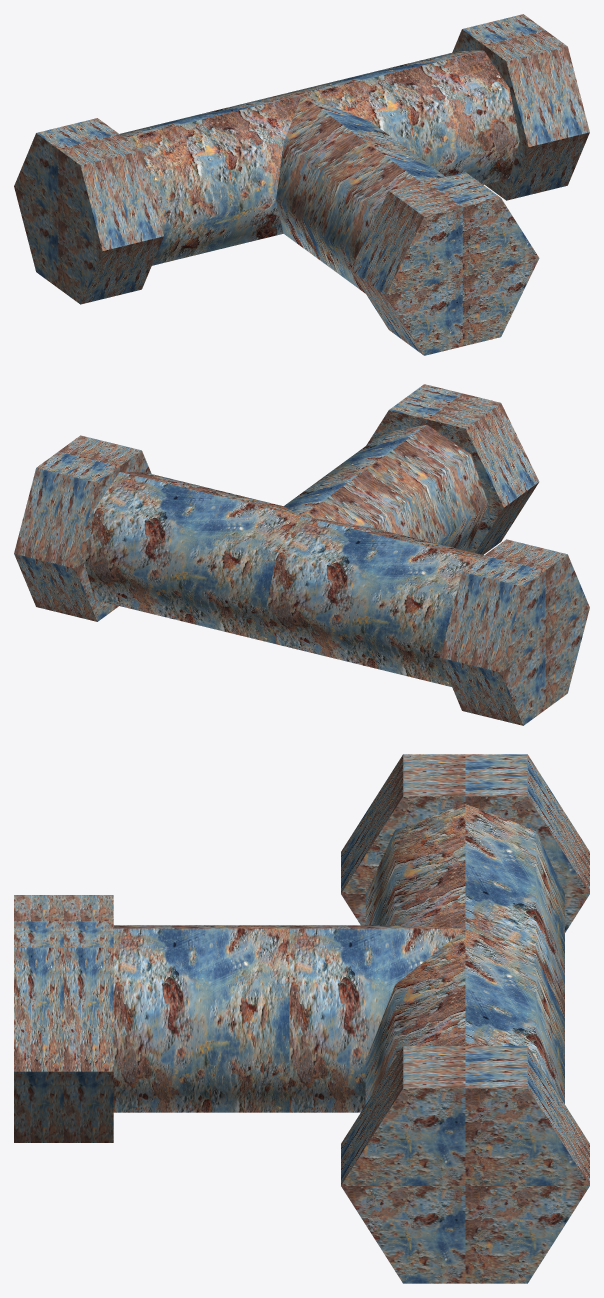
The model's file is pipe2TJoint.FBX.
3 views of the same model, one above another, from view 1: azimuth 30°, elevation 25°; view 2: azimuth 150°, elevation 25°; view 3: azimuth 270°, elevation 25° (orthographic). The views are drawn at different scales.
Parts seen in each view (by area): view 1: pipe2Joint; view 2: pipe2Joint; view 3: pipe2Joint.
Part boxes in pixels (box(x1,y1,x2,y2)): pipe2Joint: box(14, 14, 589, 355); pipe2Joint: box(14, 384, 589, 725); pipe2Joint: box(14, 754, 589, 1283).
Bounding box in the file's own units: 0.1587 × 0.0433 × 0.1156.
1 material, 1 textured.
